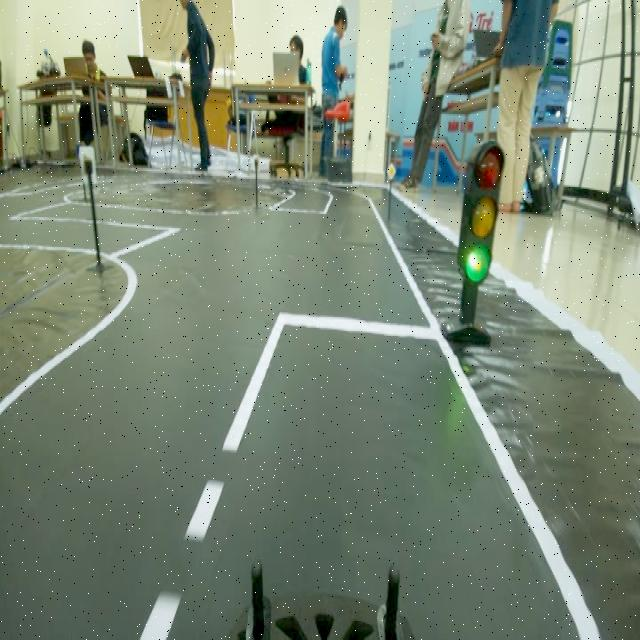trafficlight: (452, 131, 510, 292)
